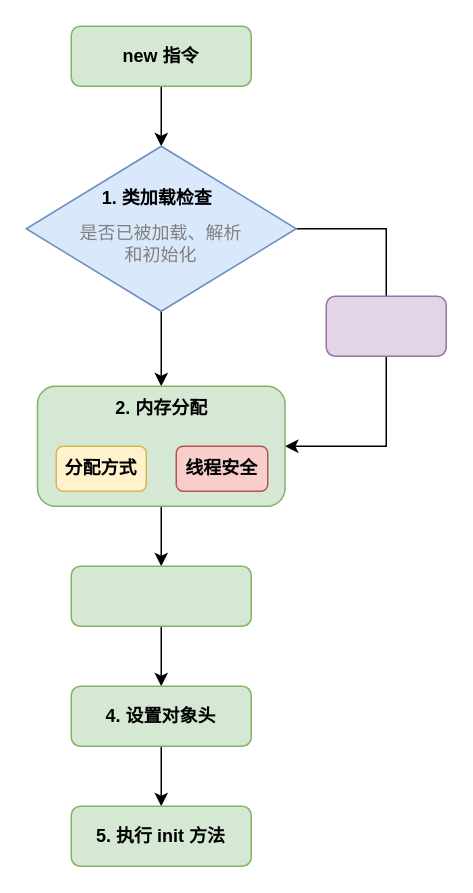
This 473x893 diagram has some shape labels left out. Each missing label, with the box of its shape:
3. 初始化零值: (70, 565, 251, 626)
类加载: (325, 295, 446, 356)
